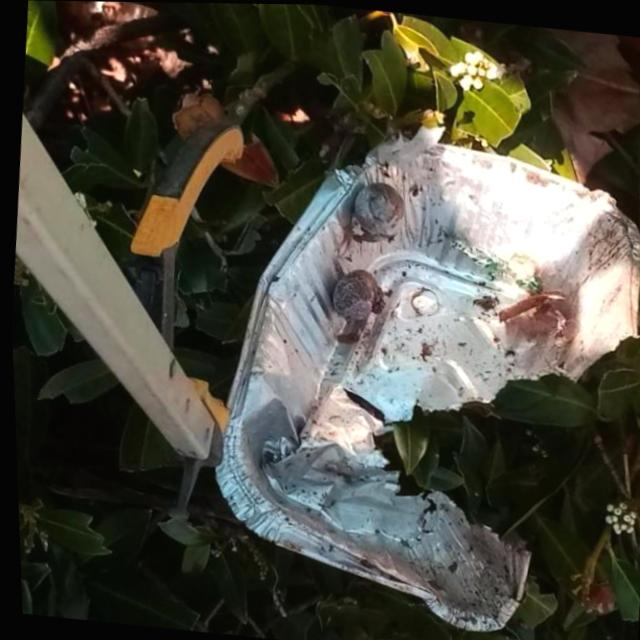Can-Metal: (184, 113, 640, 640)
